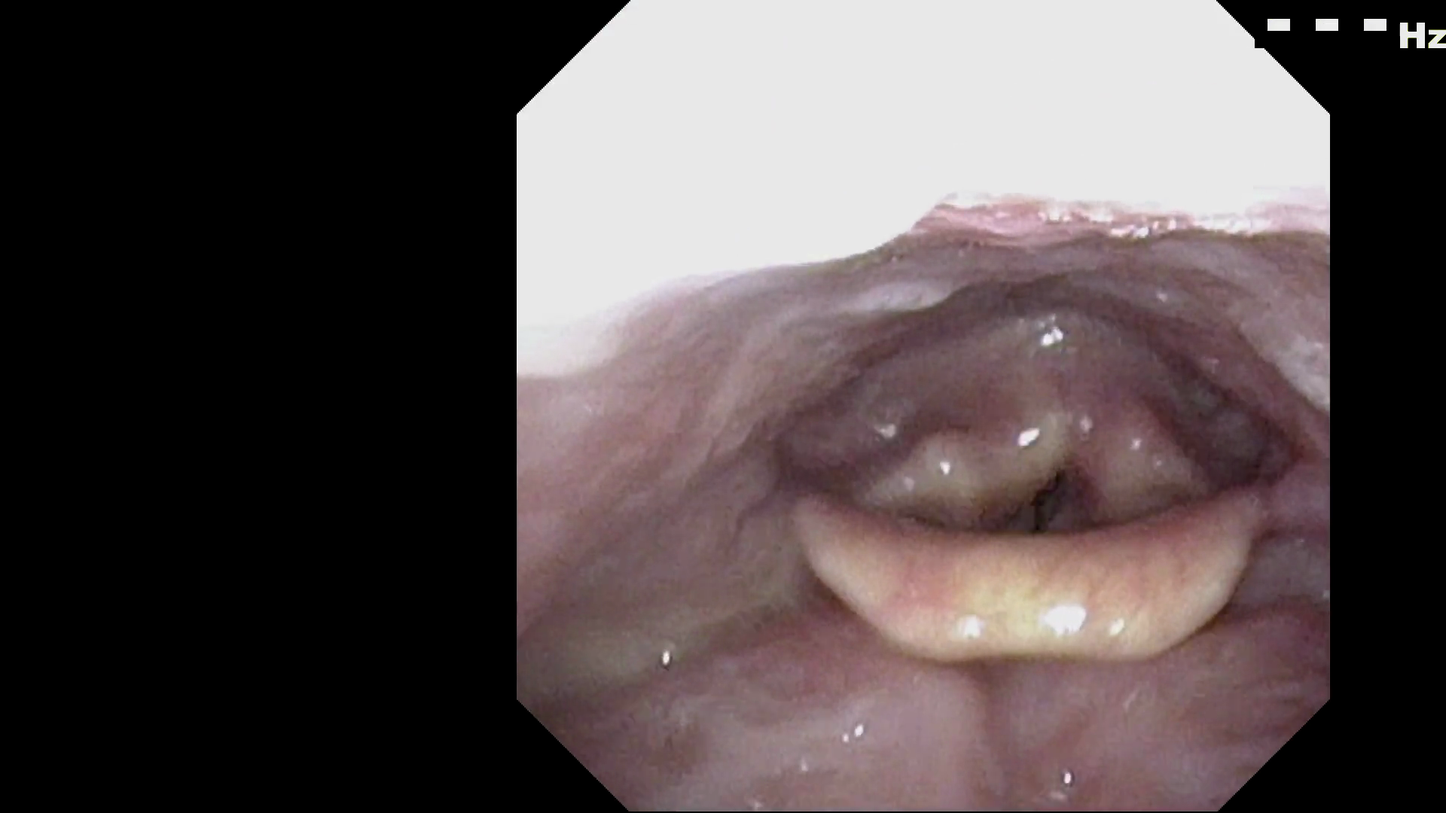epiglottis: (781, 452, 1306, 691)
trachea: (975, 402, 1121, 556)
